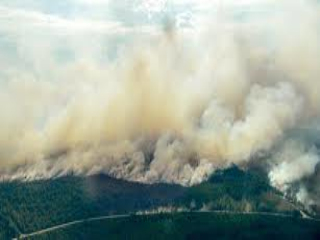smoke: (2, 6, 316, 199)
